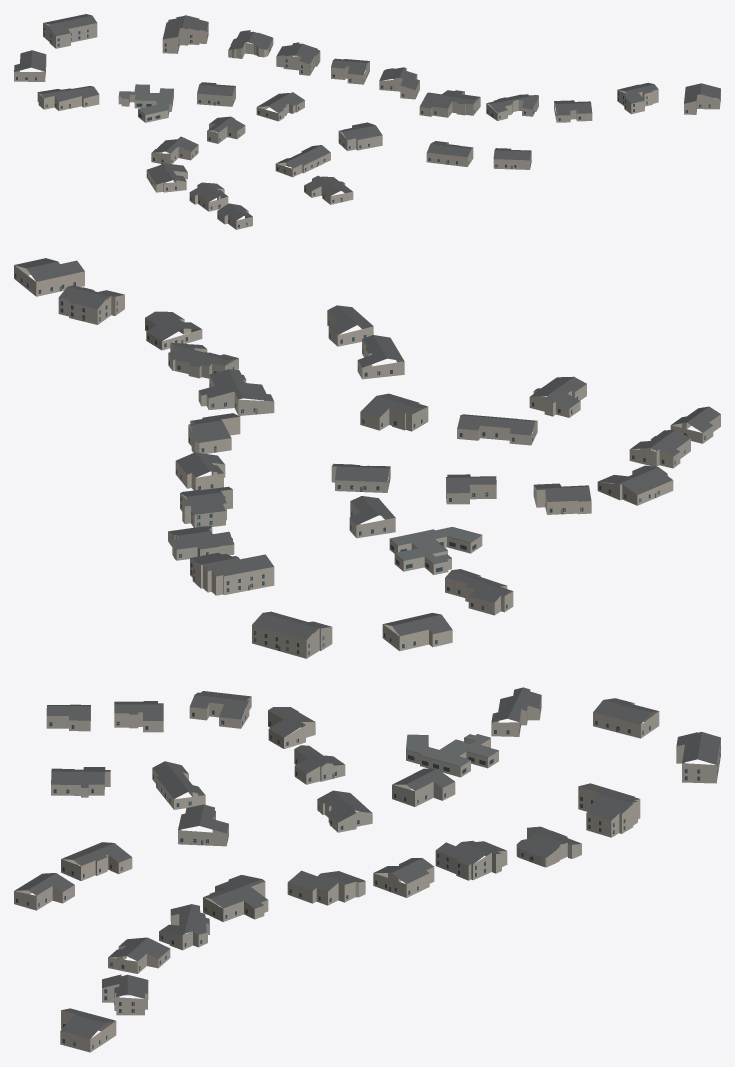
3 renders of one model, top to bottom at view 1: azimuth 30°, elevation 25°; view 2: azimuth 150°, elevation 25°; view 3: azimuth 270°, elevation 25°, orthographic. The views are drawn at different scales.
Visible parts, largest first — view 1: Buildings (1, 8) Roof shingles, Buildings (1, 8) Masonry brick, Buildings (1, 8) House siding, Buildings (1, 8) Architectural tinted glass, Buildings (1, 8) Roof membrane, Buildings (1, 8) Window trim; view 2: Buildings (1, 8) Roof shingles, Buildings (1, 8) Masonry brick, Buildings (1, 8) House siding, Buildings (1, 8) Architectural tinted glass, Buildings (1, 8) Roof membrane, Buildings (1, 8) Window trim; view 3: Buildings (1, 8) Roof shingles, Buildings (1, 8) Masonry brick, Buildings (1, 8) House siding, Buildings (1, 8) Architectural tinted glass, Buildings (1, 8) Roof membrane, Buildings (1, 8) Window trim.
Boxes of the visible parts, bbox=[...] form: Buildings (1, 8) Roof shingles: bbox=[14, 14, 720, 220]; Buildings (1, 8) Masonry brick: bbox=[14, 19, 720, 211]; Buildings (1, 8) House siding: bbox=[43, 23, 538, 229]; Buildings (1, 8) Architectural tinted glass: bbox=[16, 28, 720, 227]; Buildings (1, 8) Roof membrane: bbox=[119, 84, 173, 114]; Buildings (1, 8) Window trim: bbox=[15, 29, 720, 227]; Buildings (1, 8) Roof shingles: bbox=[14, 258, 720, 640]; Buildings (1, 8) Masonry brick: bbox=[14, 265, 690, 651]; Buildings (1, 8) House siding: bbox=[168, 343, 720, 658]; Buildings (1, 8) Architectural tinted glass: bbox=[15, 273, 705, 655]; Buildings (1, 8) Roof membrane: bbox=[390, 527, 481, 563]; Buildings (1, 8) Window trim: bbox=[15, 277, 705, 655]; Buildings (1, 8) Roof shingles: bbox=[14, 687, 720, 1038]; Buildings (1, 8) Masonry brick: bbox=[14, 690, 659, 1052]; Buildings (1, 8) House siding: bbox=[46, 706, 720, 950]; Buildings (1, 8) Architectural tinted glass: bbox=[16, 707, 720, 1048]; Buildings (1, 8) Roof membrane: bbox=[406, 734, 497, 766]; Buildings (1, 8) Window trim: bbox=[16, 710, 718, 1048].
Size of the model in its own units: 319 by 11.81 by 275.
